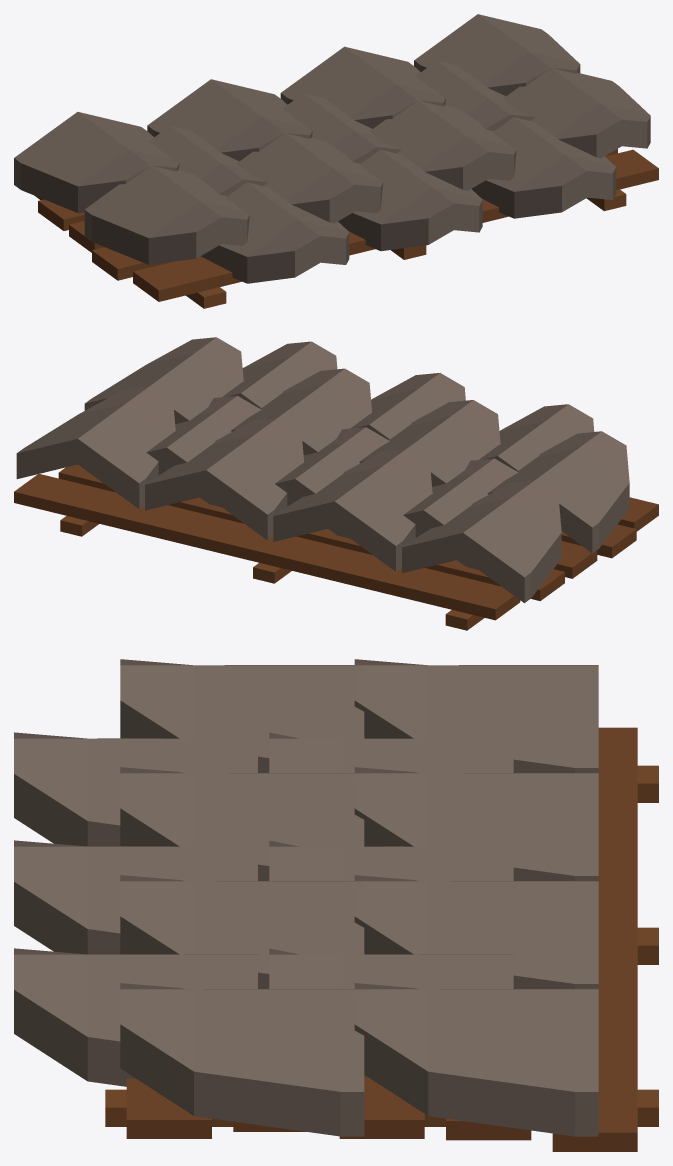
Rendered from DachziegelDisplay.fbx.
The picture shows the model from 3 angles, top to bottom: view 1: azimuth 30°, elevation 25°; view 2: azimuth 150°, elevation 25°; view 3: azimuth 270°, elevation 25°; orthographic projection. The views are drawn at different scales.
Visible parts, largest first — view 1: DachziegelDisplay; view 2: DachziegelDisplay; view 3: DachziegelDisplay.
Boxes of the visible parts, x1,y1,x2,y2 form: DachziegelDisplay: (14,14,658,308); DachziegelDisplay: (14,337,658,630); DachziegelDisplay: (14,659,658,1151).
Size of the model in its own units: 480 by 71.3 by 303.
